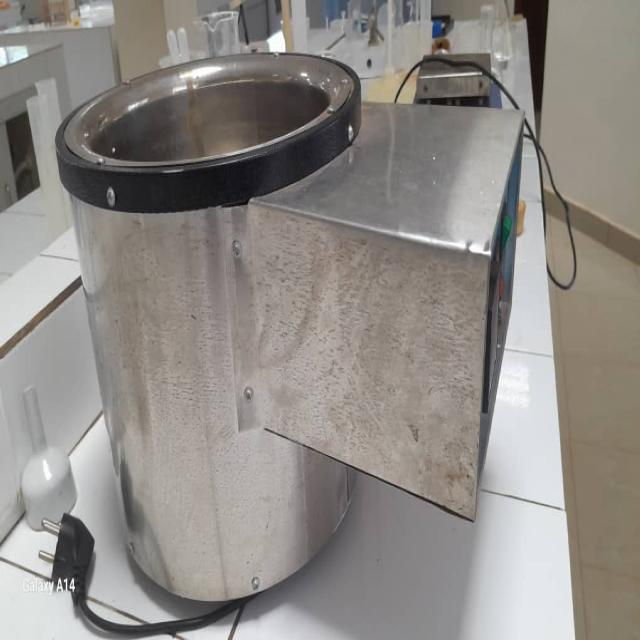Water-Oil Bath: (54, 104, 526, 573)
